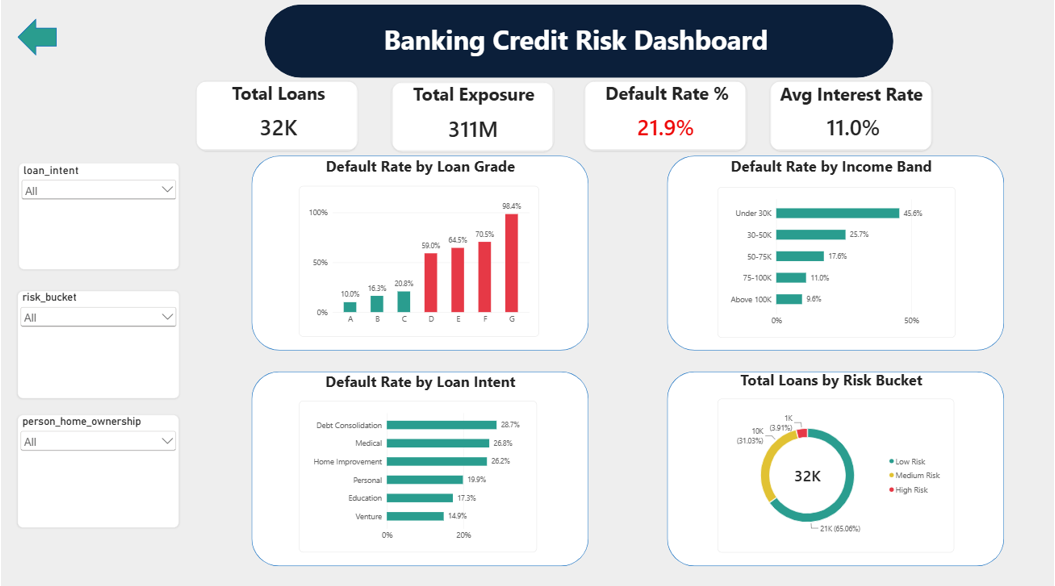

What the dashboard file says about the page in this screenshot:
{"tool":"powerbi","page":{"name":"Executive Overview","canvas":[1920,1080],"ordinal":1},"visuals":[{"type":"shape","box":[482.2,12.2,1143.6,133.5],"z":0},{"type":"textbox","box":[698.9,44.1,728.9,68.1],"z":1000},{"type":"textbox","box":[1317.7,288.8,406.5,54.1],"z":2000},{"type":"shape","box":[458.6,288.8,612.8,354.4],"z":3000},{"type":"shape","box":[458.6,681.3,612.8,354.4],"z":4000},{"type":"shape","box":[1213.5,681.3,612.8,354.4],"z":5000},{"type":"shape","box":[1213.5,288.8,612.8,354.4],"z":6000},{"type":"textbox","box":[580.7,288.8,368.5,54.1],"z":7000},{"type":"textbox","box":[1329.7,288.8,416.5,54.1],"z":8000},{"type":"clusteredColumnChart","fields":{"Category":["loan.loan_grade"],"Y":["loan.Defaults Rate%"]},"box":[544.7,342.8,436.5,274.3],"z":9000},{"type":"clusteredBarChart","fields":{"Category":["loan.income_band"],"Y":["loan.Defaults Rate%"]},"box":[1305.6,344.8,432.5,274.3],"z":10000},{"type":"clusteredBarChart","fields":{"Category":["loan.loan_intent"],"Y":["loan.Defaults Rate%"]},"box":[544.7,733.3,432.5,276.3],"z":11000},{"type":"donutChart","fields":{"Category":["loan.risk_bucket"],"Y":["loan.Total Loans"]},"box":[1305.6,729.3,430.5,280.4],"z":12000},{"type":"textbox","box":[580.7,681.3,368.5,48.1],"z":13000},{"type":"textbox","box":[1329.7,677.2,366.5,56.1],"z":14000},{"type":"slicer","fields":{"Values":["loan.loan_intent"]},"box":[35.6,301.3,291.9,194.6],"z":15000},{"type":"slicer","fields":{"Values":["loan.person_home_ownership"]},"box":[33.7,759.8,293.8,205.8],"z":16000},{"type":"slicer","fields":{"Values":["loan.risk_bucket"]},"box":[33.7,533.3,294.4,196.2],"z":17000},{"type":"shape","box":[1401.8,152.2,294.4,126.2],"z":18000},{"type":"shape","box":[712.9,154.2,294.4,126.2],"z":19000},{"type":"shape","box":[358.4,152.2,294.4,126.2],"z":20000},{"type":"shape","box":[1063.3,152.2,294.4,126.2],"z":21000},{"type":"textbox","box":[360.5,152.2,292.4,44.1],"z":22000},{"type":"textbox","box":[734.9,154.2,254.3,42.1],"z":23000},{"type":"textbox","box":[1070.4,151.6,286.3,44.9],"z":24000},{"type":"textbox","box":[1403.8,154.2,292.4,44.1],"z":25000},{"type":"cardVisual","fields":{"Data":["loan.Total Loans"]},"box":[434.5,196.2,146.2,78.1],"z":26000},{"type":"cardVisual","fields":{"Data":["loan.Total Exposure"]},"box":[789,198.2,146.2,78.1],"z":27000},{"type":"cardVisual","fields":{"Data":["loan.Defaults Rate%"]},"box":[1139.4,196.2,146.2,78.1],"z":28000},{"type":"cardVisual","fields":{"Data":["loan.Avg Interest rate"]},"box":[1479.9,196.2,146.2,78.1],"z":29000},{"type":"shape","box":[33.7,39.3,71.1,67.4],"z":30000}]}

Visuals, with their boxes in screenshot pixels (x1, y1, x2, y2), scaled from the page's 1920x1080 canvas onto the 1055x586 screenshot:
shape: box=[265, 7, 893, 79]
textbox: box=[384, 24, 785, 61]
textbox: box=[724, 157, 947, 186]
shape: box=[252, 157, 589, 349]
shape: box=[252, 370, 589, 562]
shape: box=[667, 370, 1004, 562]
shape: box=[667, 157, 1004, 349]
textbox: box=[319, 157, 522, 186]
textbox: box=[731, 157, 960, 186]
clusteredColumnChart - loan.loan_grade x loan.Defaults Rate%: box=[299, 186, 539, 335]
clusteredBarChart - loan.income_band x loan.Defaults Rate%: box=[717, 187, 955, 336]
clusteredBarChart - loan.loan_intent x loan.Defaults Rate%: box=[299, 398, 537, 548]
donutChart - loan.risk_bucket x loan.Total Loans: box=[717, 396, 954, 548]
textbox: box=[319, 370, 522, 396]
textbox: box=[731, 367, 932, 398]
slicer - loan.loan_intent: box=[20, 163, 180, 269]
slicer - loan.person_home_ownership: box=[19, 412, 180, 524]
slicer - loan.risk_bucket: box=[19, 289, 180, 396]
shape: box=[770, 83, 932, 151]
shape: box=[392, 84, 553, 152]
shape: box=[197, 83, 359, 151]
shape: box=[584, 83, 746, 151]
textbox: box=[198, 83, 359, 107]
textbox: box=[404, 84, 544, 107]
textbox: box=[588, 82, 745, 107]
textbox: box=[771, 84, 932, 108]
cardVisual - loan.Total Loans: box=[239, 106, 319, 149]
cardVisual - loan.Total Exposure: box=[434, 108, 514, 150]
cardVisual - loan.Defaults Rate%: box=[626, 106, 706, 149]
cardVisual - loan.Avg Interest rate: box=[813, 106, 894, 149]
shape: box=[19, 21, 58, 58]
